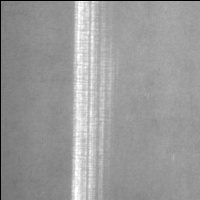scratches: (70, 1, 104, 200)
